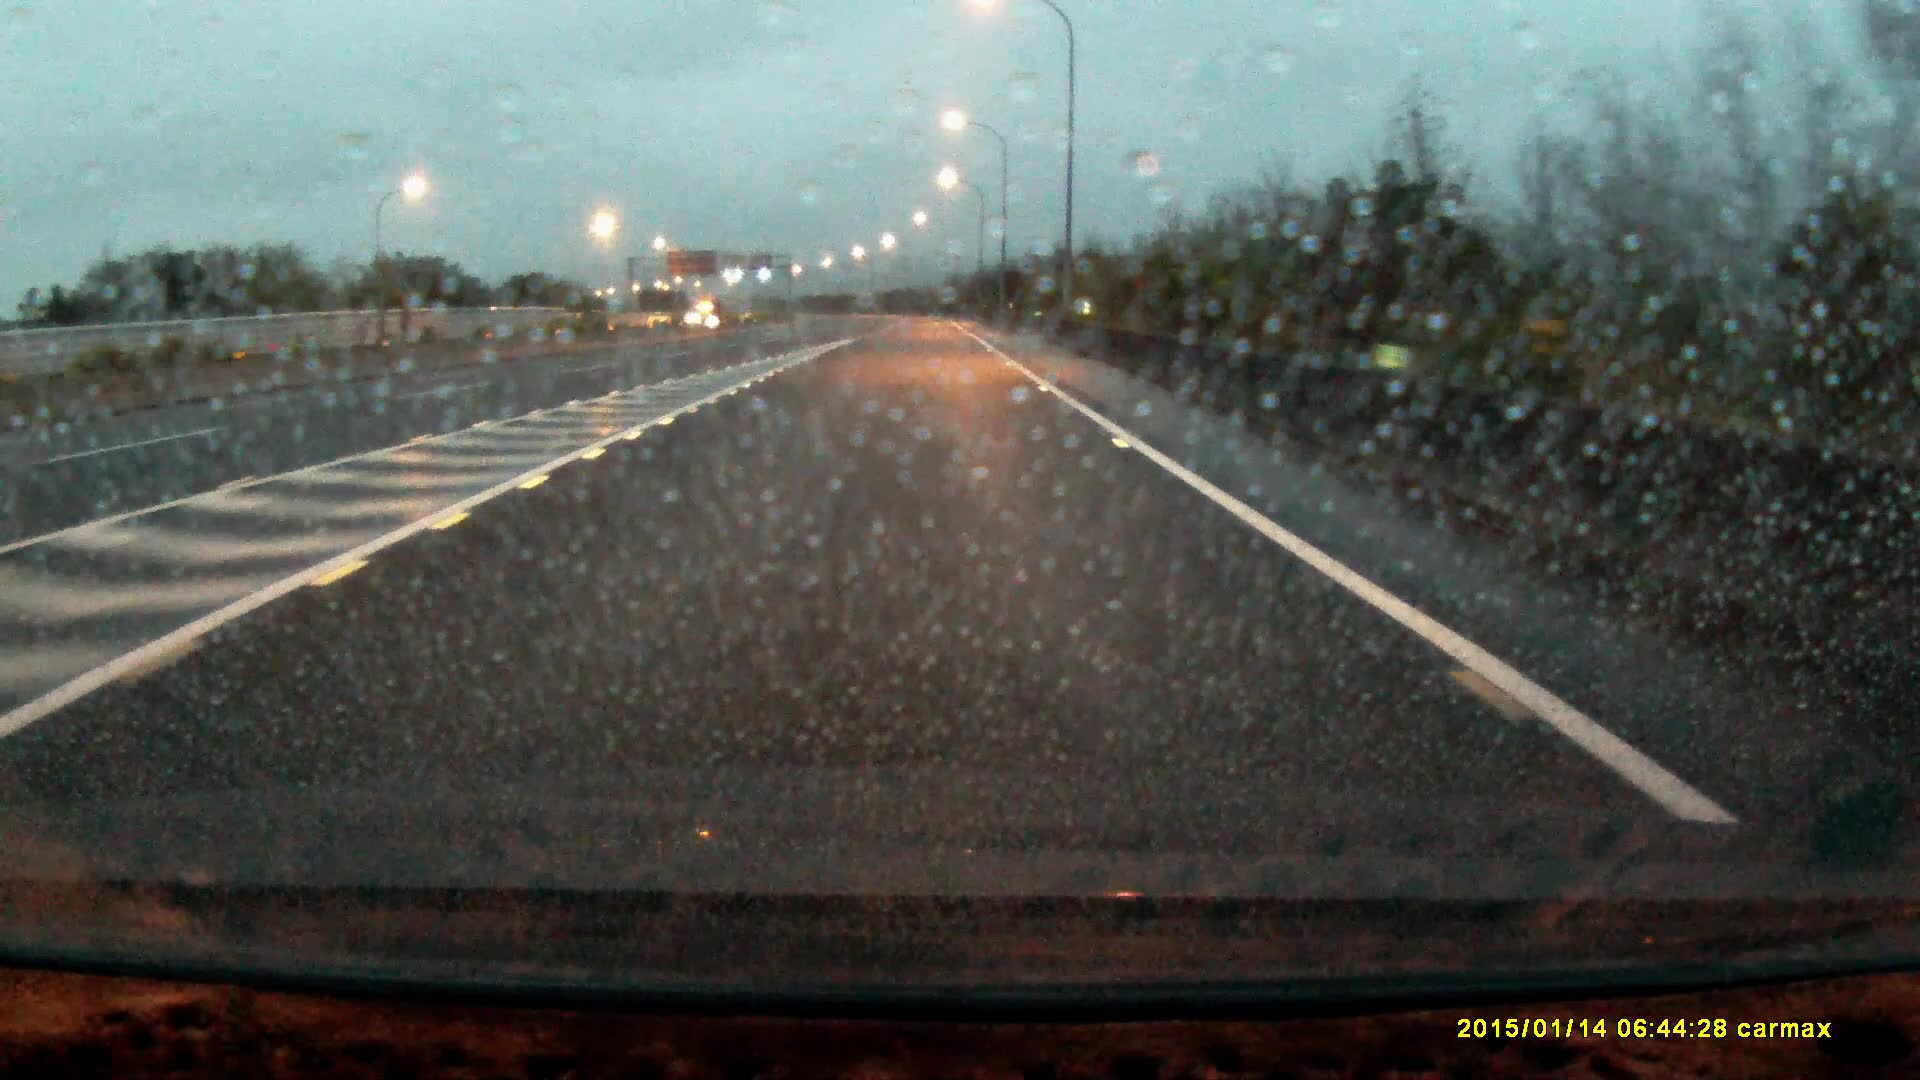vehicle: (691, 301, 724, 327)
